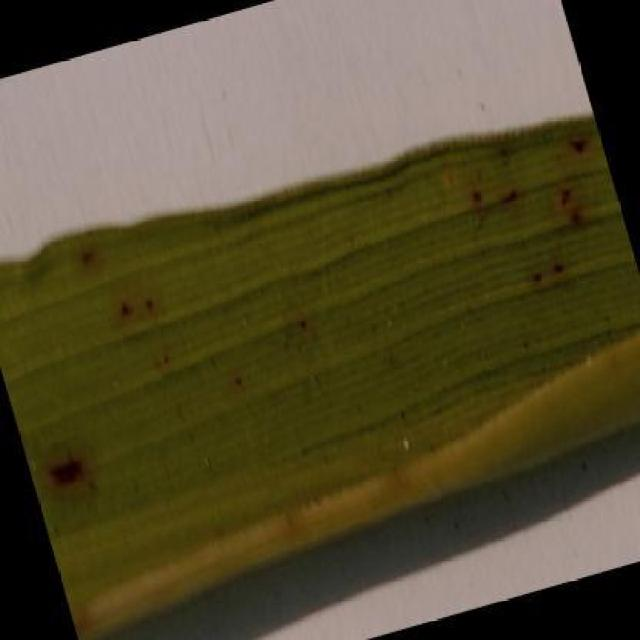Leaf_Blast: (102, 263, 178, 368), (30, 433, 110, 507), (522, 237, 582, 303), (544, 171, 594, 244), (481, 172, 532, 235), (66, 233, 114, 290), (559, 125, 599, 169)
